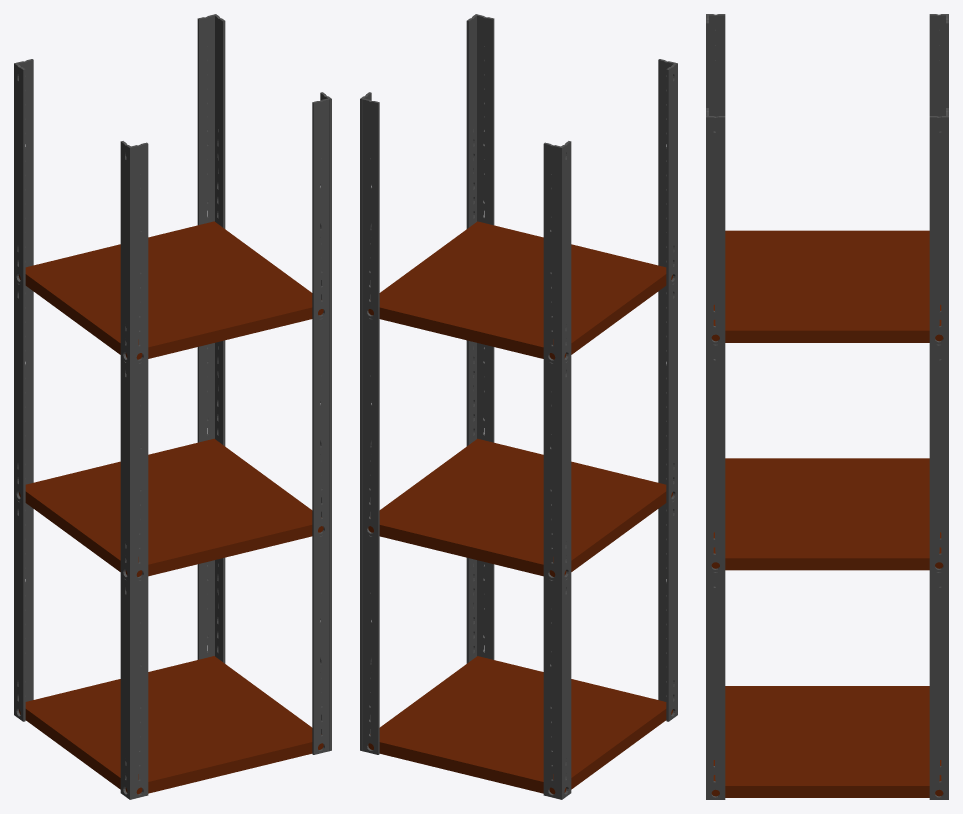
The model's file is Estante_x1.fbx.
The picture shows the model from 3 angles, left to right: view 1: azimuth 30°, elevation 25°; view 2: azimuth 150°, elevation 25°; view 3: azimuth 270°, elevation 25°; orthographic projection. The views are drawn at different scales.
Visible parts, largest first — view 1: Cube.001; view 2: Cube.001; view 3: Cube.001.
Part boxes in pixels (box(x1,y1,x2,y2)): Cube.001: box(14, 14, 331, 799); Cube.001: box(360, 14, 677, 799); Cube.001: box(706, 14, 948, 799).
Size of the model in its own units: 95.74 by 295 by 95.17.
